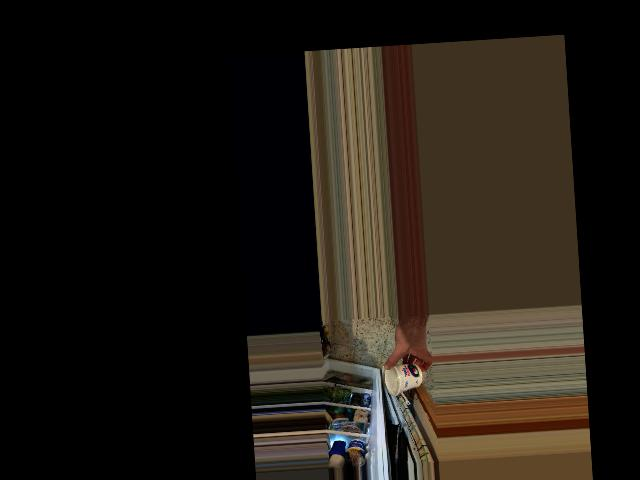cotage: (384, 359, 422, 396)
